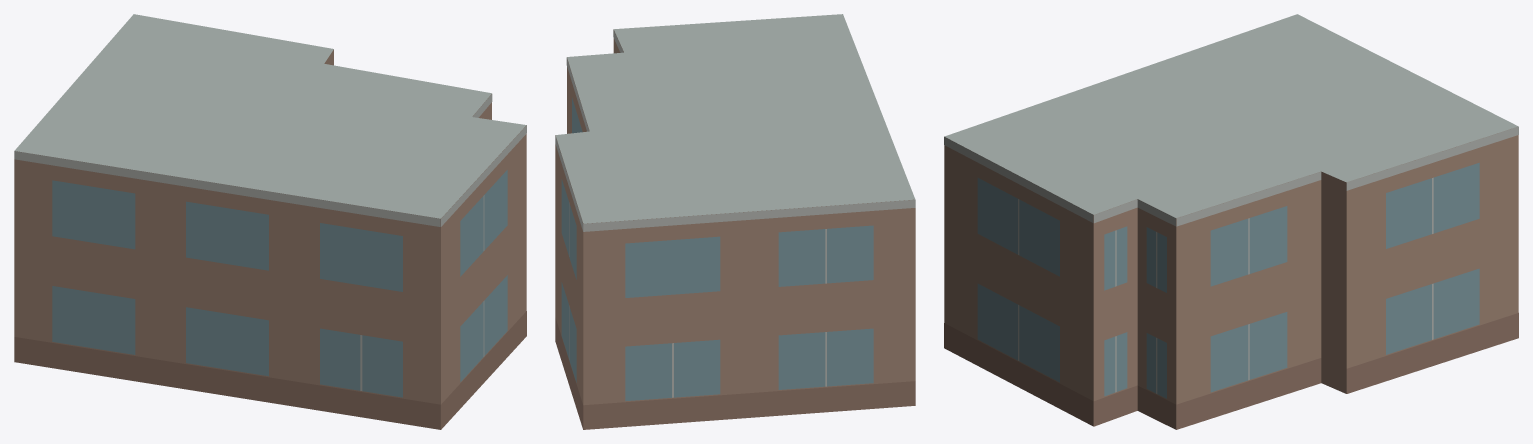
File: survey-upis-32562043.glb
The picture shows the model from 3 angles, left to right: view 1: azimuth 30°, elevation 25°; view 2: azimuth 150°, elevation 25°; view 3: azimuth 270°, elevation 25°; orthographic projection. The views are drawn at different scales.
Parts seen in each view (by area): view 1: survey-upis-32562043.tmp; view 2: survey-upis-32562043.tmp; view 3: survey-upis-32562043.tmp.
Boxes of the visible parts, x1,y1,x2,y2 form: survey-upis-32562043.tmp: (14, 14, 526, 429); survey-upis-32562043.tmp: (555, 14, 915, 429); survey-upis-32562043.tmp: (944, 14, 1518, 429).
Bounding box in the file's own units: 12.63 × 6.1 × 15.01.
